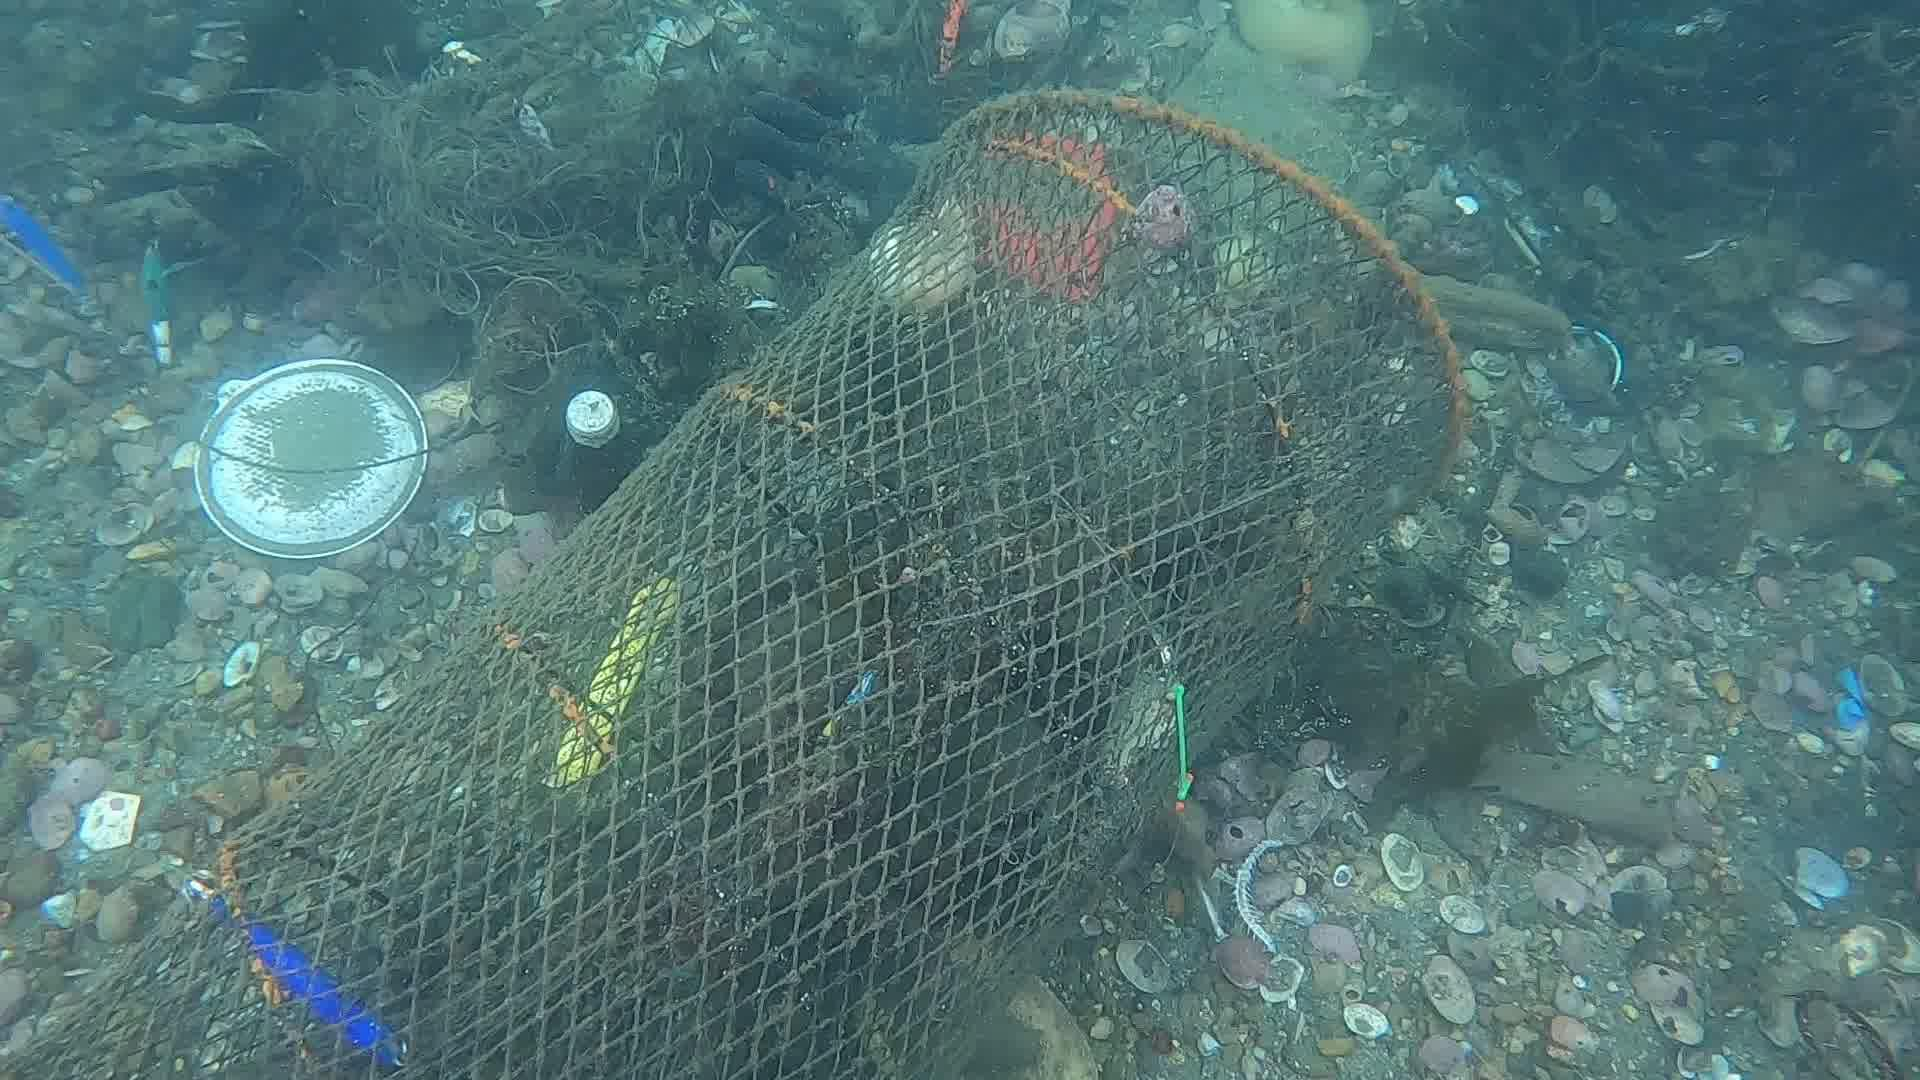spring fish trap: (0, 76, 1472, 1080)
